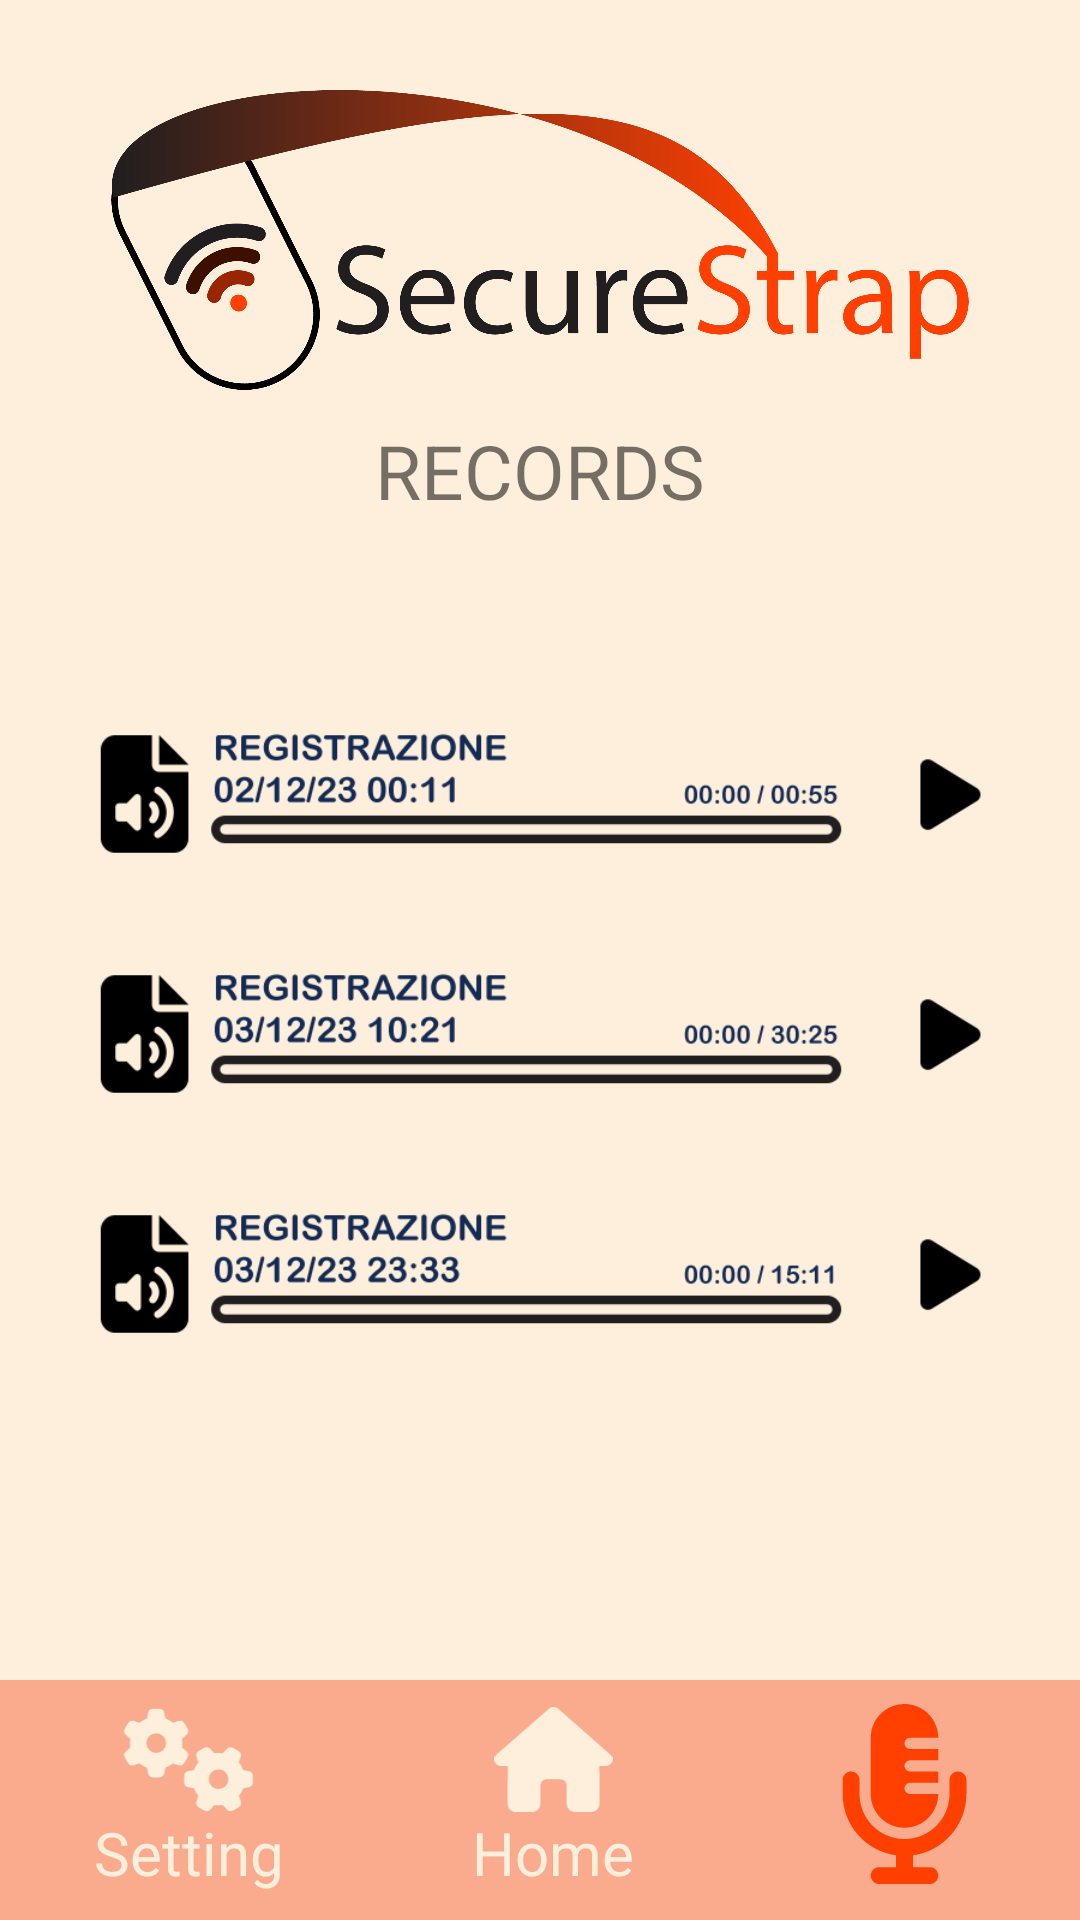

Screen size 1080 x 1920. Icon name, then its center in pixels as (x,y):
microphone yes: (904,1794)
